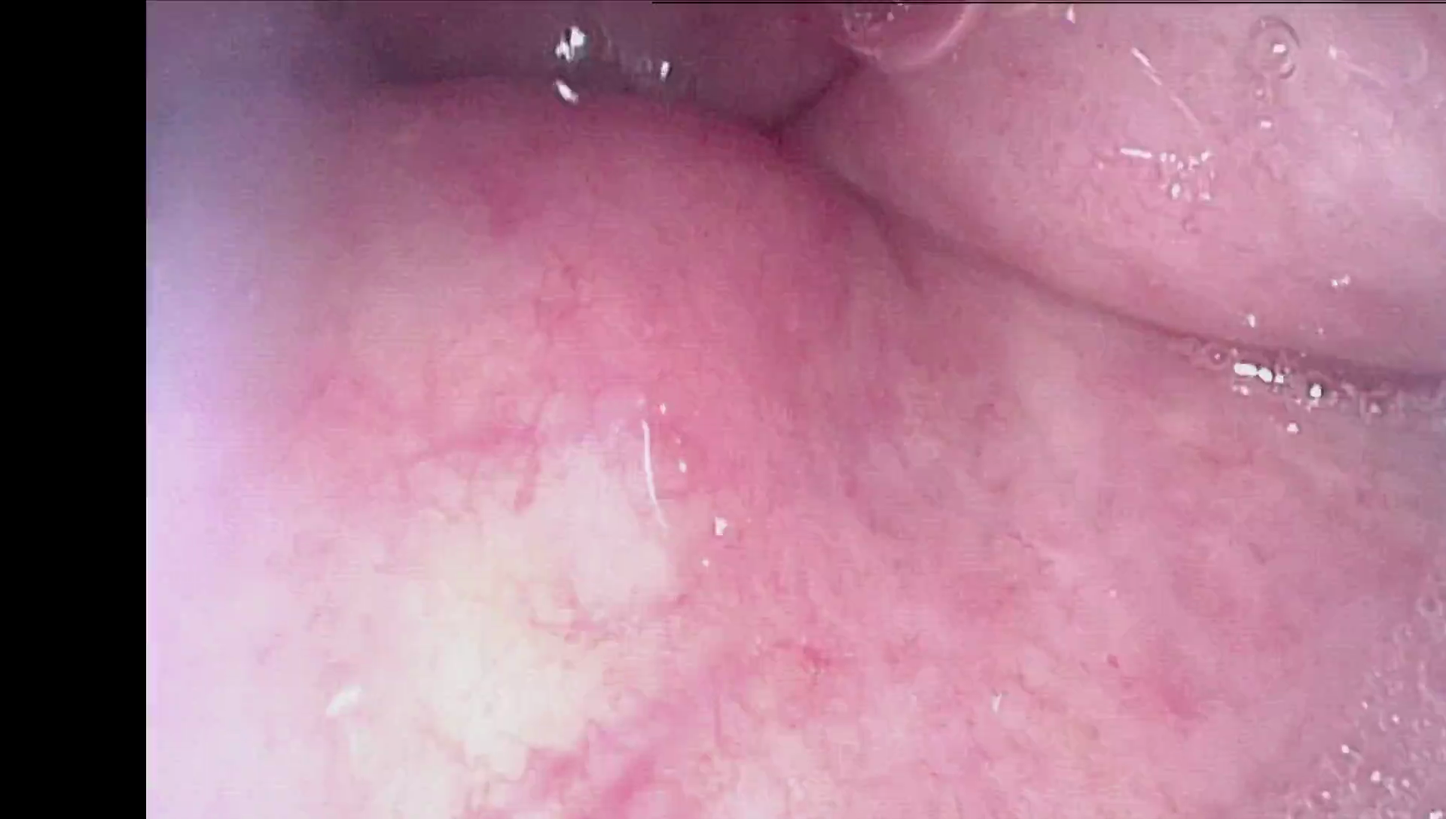close_wall: (210, 242, 938, 819)
